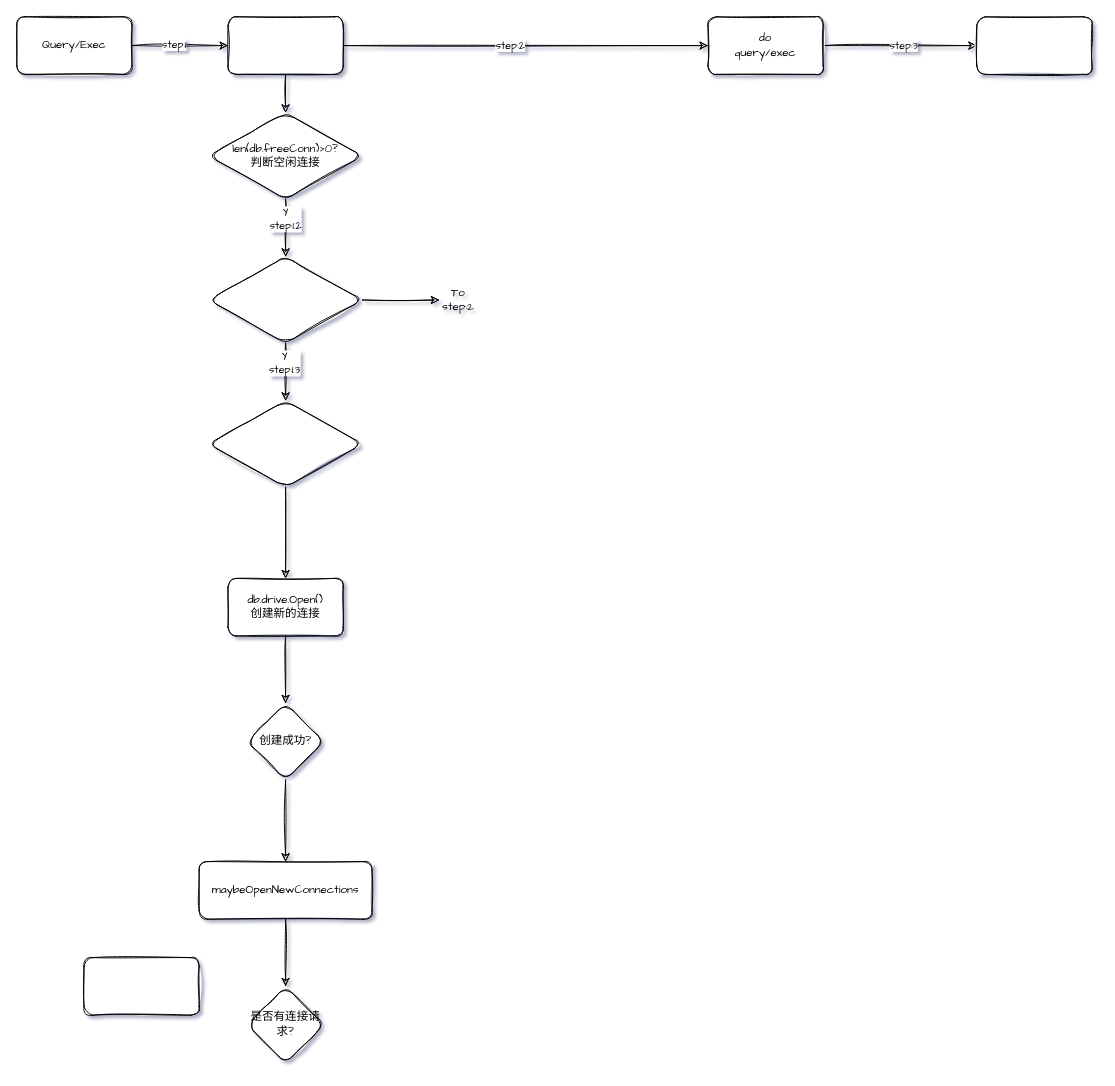
The diagram is 1115 pixels wide and 1086 high, and some of its shapes have lost their labels. The centre of each missing label's shape, as x and y in pixels:
"conn() 获取可用连接" goes at (285,45).
"conn.expired(lifetime) 连接是否过期" goes at (285,299).
"putConn() 释放连接" goes at (1034,45).
"是否达到最大连接数" goes at (285,443).
